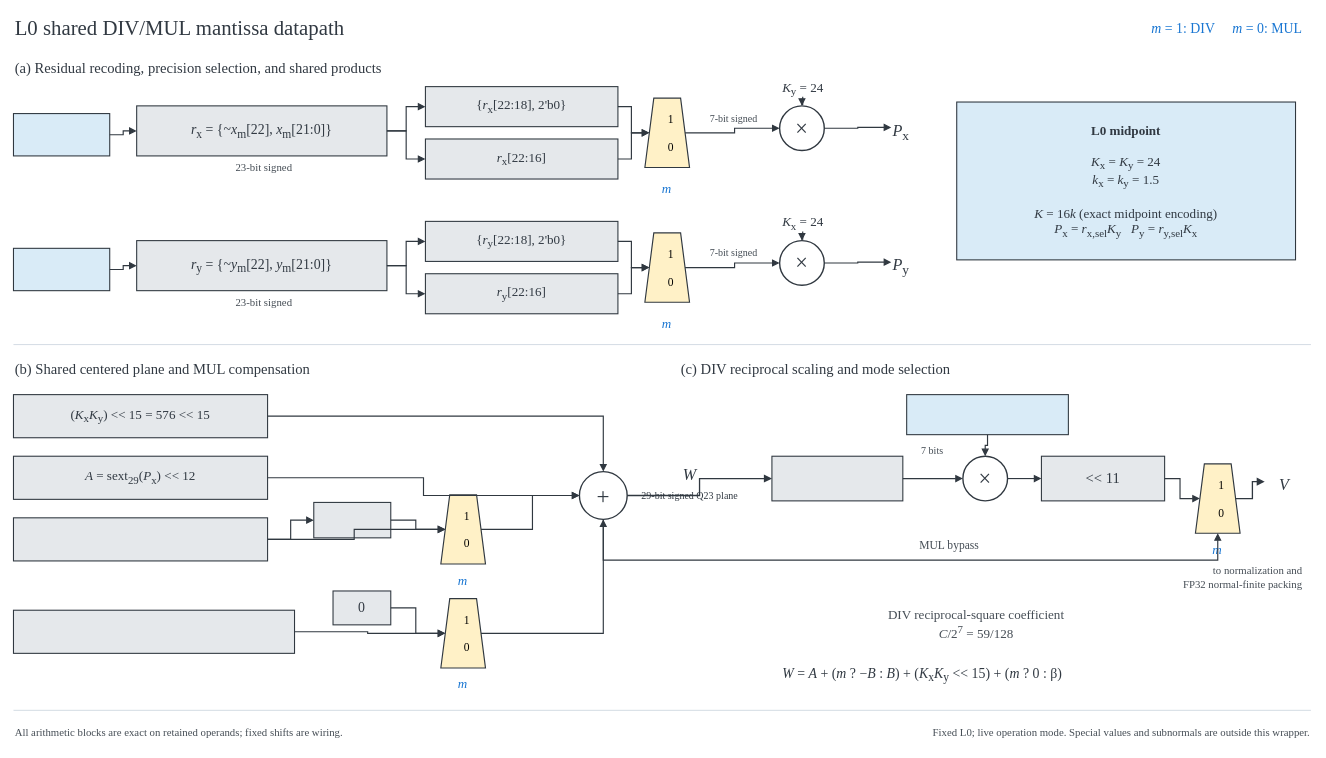
Image size: 1326x758. Some labels were removed from this diagram. The centre of each missing label's shape, as x and y in pixels:
"B = sext 29 ( P y ) << 12" goes at [140,539].
"C = 59 (Q0.7)" goes at [987,414].
"W [24:18]" goes at [837,478].
"x m [23:0]" goes at [61,134].
"y m [23:0]" goes at [61,269].
"β = ( K x + K y ) << 11 = 48 << 11" goes at [154,631].
"− B" goes at [352,520].
